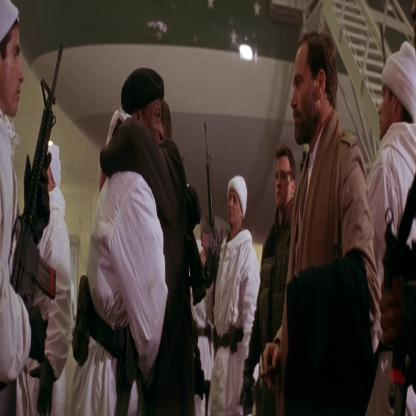gun: (15, 45, 74, 342), (197, 98, 226, 285)
